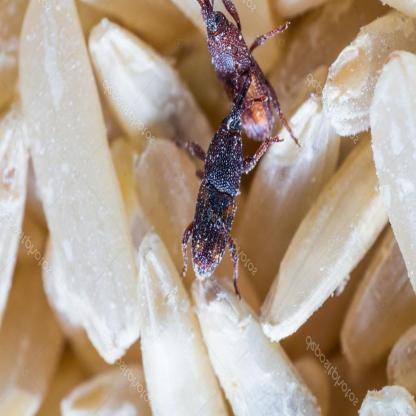rice-bug: (177, 0, 299, 300)
